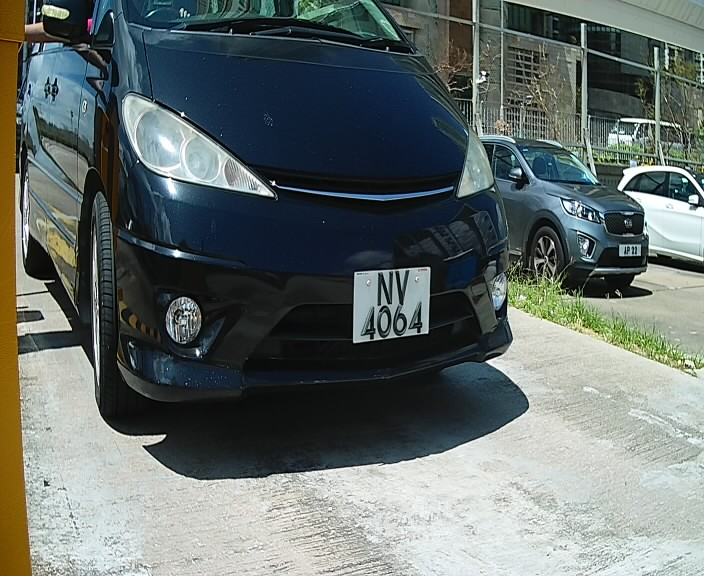Car: (2, 2, 544, 447)
License Plate: (347, 261, 440, 363)
